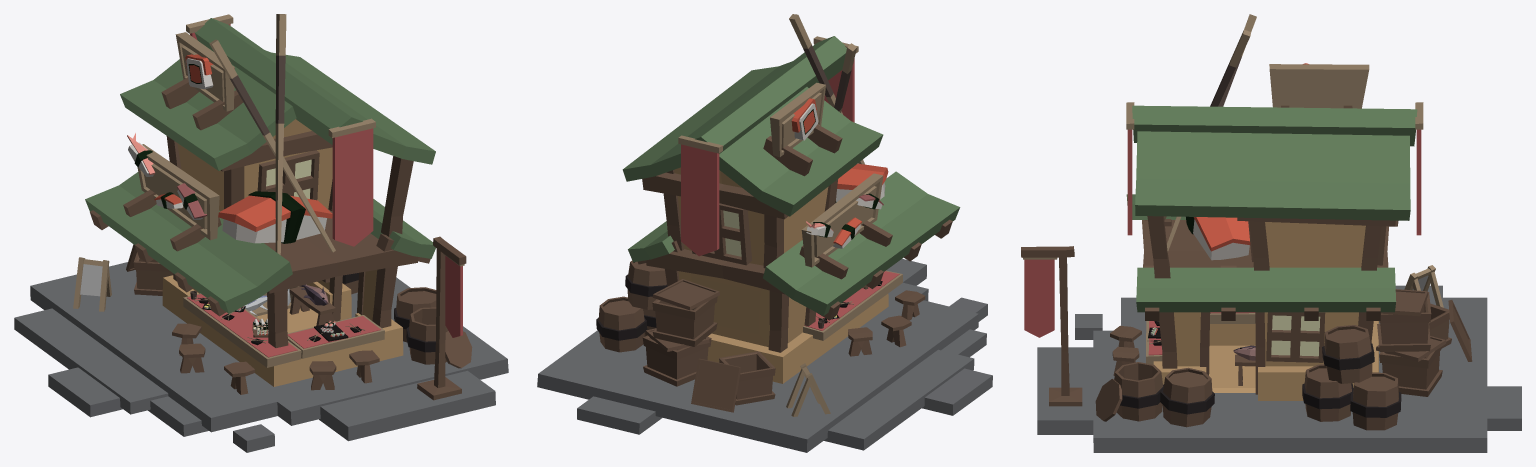
File: SushiShop.fbx
The picture shows the model from 3 angles, left to right: view 1: azimuth 30°, elevation 25°; view 2: azimuth 150°, elevation 25°; view 3: azimuth 270°, elevation 25°; orthographic projection. The views are drawn at different scales.
Parts seen in each view (by area): view 1: SushiShop; view 2: SushiShop; view 3: SushiShop.
Boxes of the visible parts, x1,y1,x2,y2 form: SushiShop: (14, 14, 508, 452); SushiShop: (537, 14, 992, 452); SushiShop: (1021, 14, 1521, 452).
Bounding box in the file's own units: 473 × 449 × 575.
Materials: 1 (1 with a texture image).
